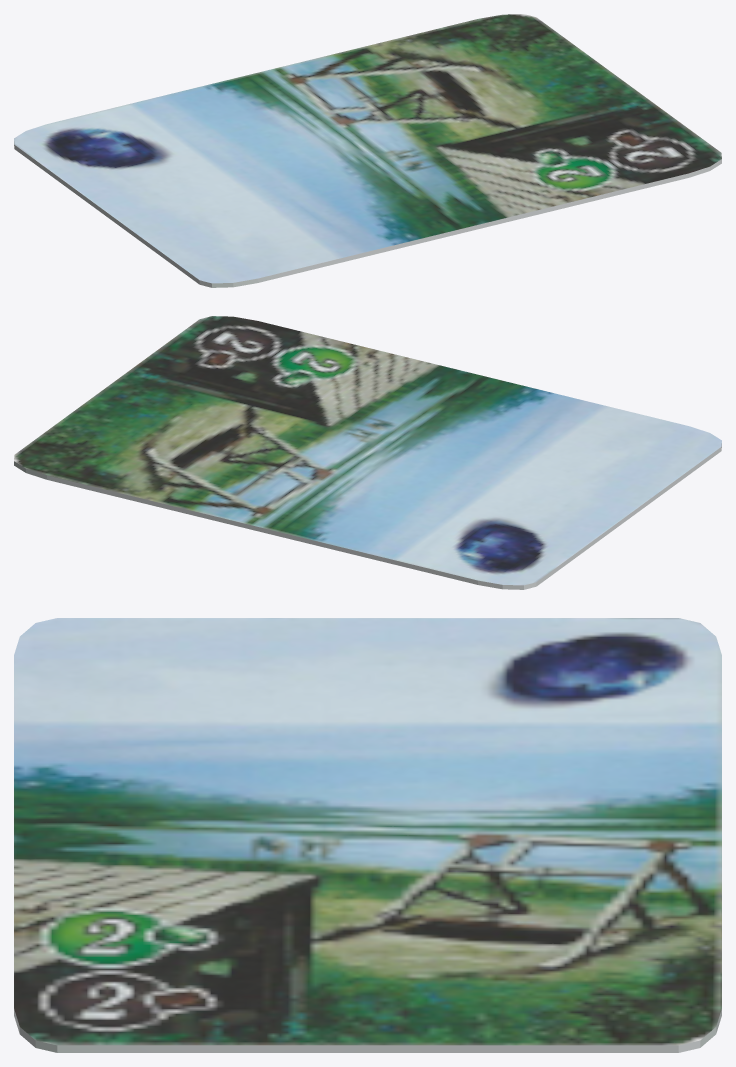
3 views of the same model, one above another, from view 1: azimuth 30°, elevation 25°; view 2: azimuth 150°, elevation 25°; view 3: azimuth 270°, elevation 25° (orthographic). The views are drawn at different scales.
Parts seen in each view (by area): view 1: Card1; view 2: Card1; view 3: Card1.
Part boxes in pixels (x1,y1,x2,y2): Card1: (14, 14, 721, 287); Card1: (14, 316, 721, 589); Card1: (14, 618, 721, 1052).
Bounding box in the file's own units: 700 × 5.74 × 490.
